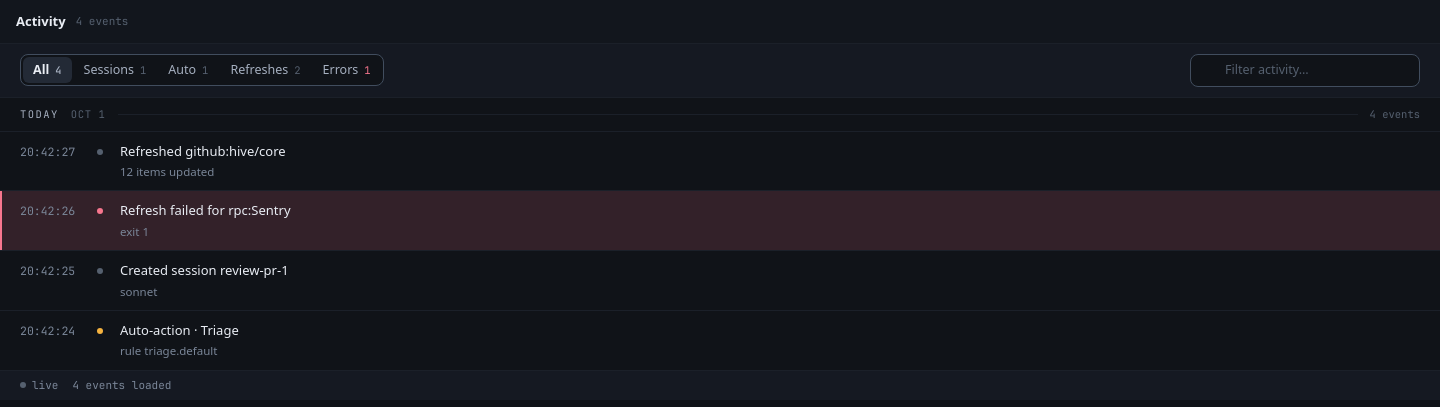
Test case: ActivityView › filters by category for the session/auto/refresh pills
This screenshot has width=1440, height=407.
Click the button with test id "activity-filter-session". click: x=115, y=70
box: x1=74 y1=57 x2=156 y2=83
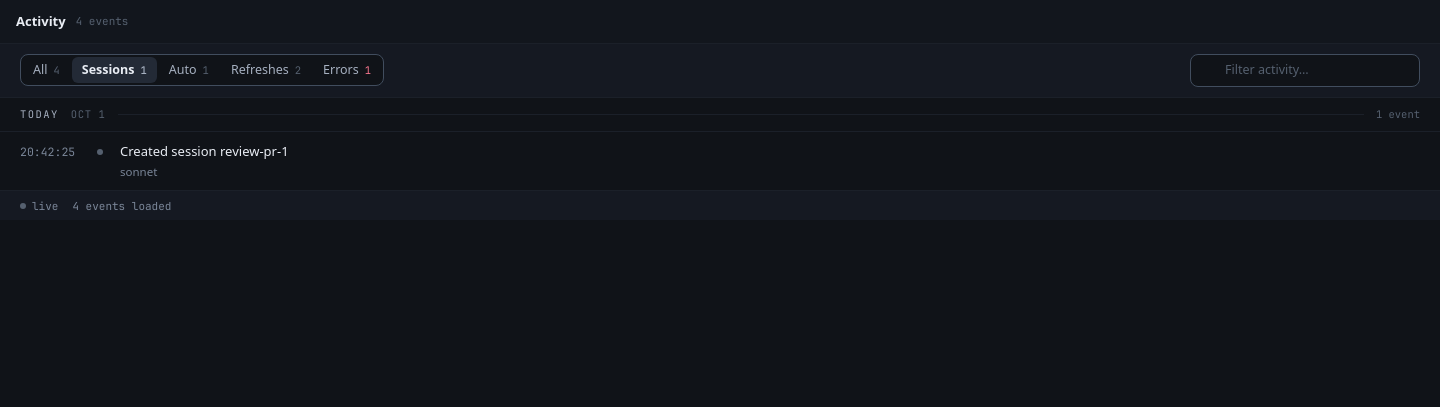
Expected: the element with test id "activity-row" shows "Created session review-pr-1", x1=120 y1=142 x2=289 y2=160
Now the number of elements with test id "activity-row" is 1, box x1=20 y1=142 x2=289 y2=179
